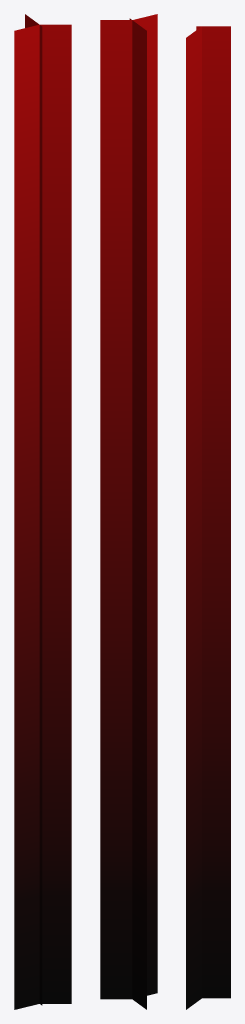
3 views of the same model, side by side, from view 1: azimuth 30°, elevation 25°; view 2: azimuth 210°, elevation 25°; view 3: azimuth 270°, elevation 25° (orthographic).
Parts seen in each view (by area): view 1: KELP_LP_002; view 2: KELP_LP_002; view 3: KELP_LP_002.
Boxes of the visible parts, left/top/right/bottom form: KELP_LP_002: left=14, top=14, right=71, bottom=1009; KELP_LP_002: left=100, top=14, right=157, bottom=1009; KELP_LP_002: left=186, top=26, right=230, bottom=1009.
Size of the model in its own units: 0.8497 by 16.2 by 0.6746.
